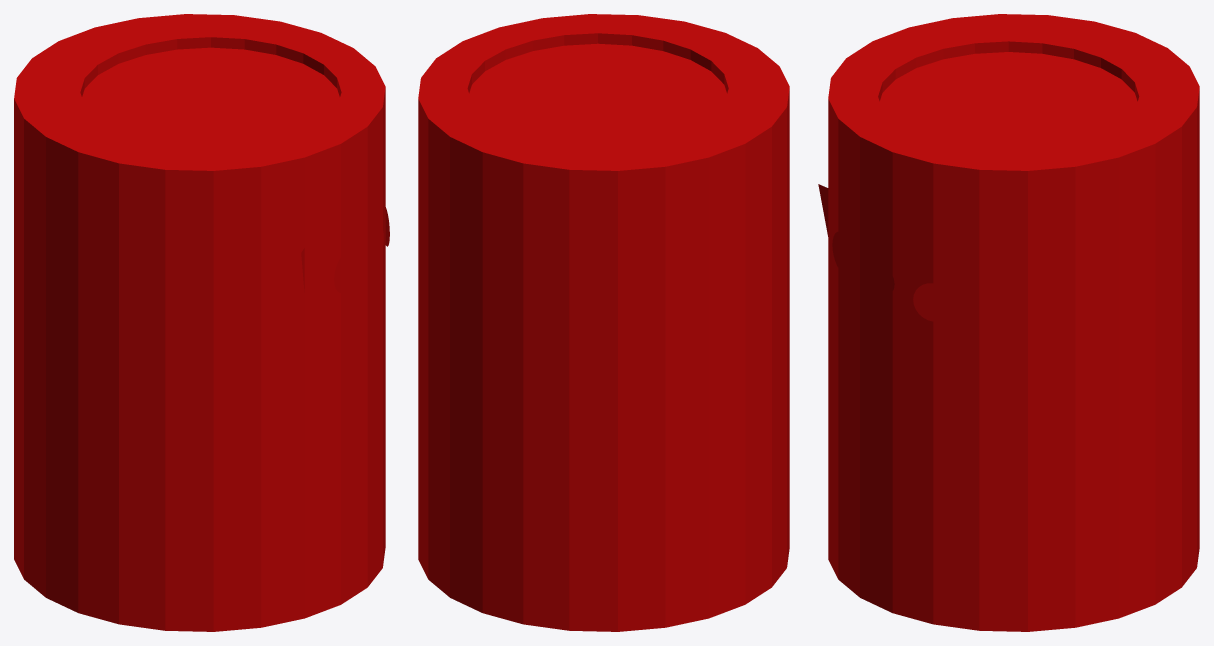
3 renders of one model, left to right at view 1: azimuth 30°, elevation 25°; view 2: azimuth 150°, elevation 25°; view 3: azimuth 270°, elevation 25°, orthographic.
Visible parts, largest first — view 1: mesh1_mesh1-geometry; view 2: mesh1_mesh1-geometry; view 3: mesh1_mesh1-geometry.
Boxes of the visible parts, bbox=[...] form: mesh1_mesh1-geometry: bbox=[14, 14, 389, 631]; mesh1_mesh1-geometry: bbox=[418, 14, 789, 631]; mesh1_mesh1-geometry: bbox=[818, 14, 1199, 631].
Bounding box in the file's own units: 0.5045 × 0.6908 × 0.518.
